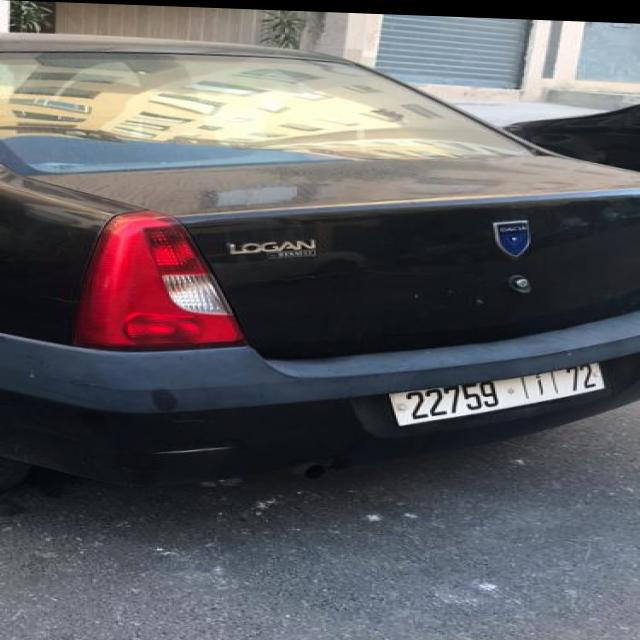License-Plate: (390, 359, 601, 423)
